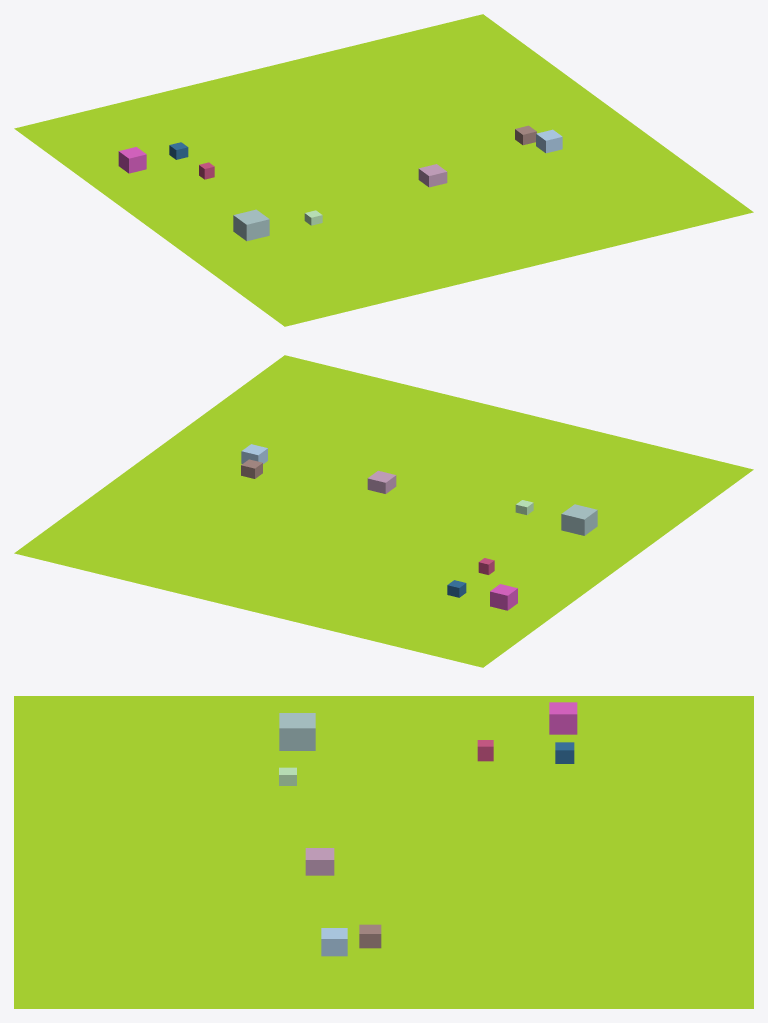
3 views of the same model, one above another, from view 1: azimuth 30°, elevation 25°; view 2: azimuth 150°, elevation 25°; view 3: azimuth 270°, elevation 25° (orthographic). The views are drawn at different scales.
Parts seen in each view (by area): view 1: Chunk_2_1; view 2: Chunk_2_1; view 3: Chunk_2_1.
Boxes of the visible parts, x1=… form: Chunk_2_1: x1=14, y1=14, x2=753, y2=326; Chunk_2_1: x1=14, y1=355, x2=753, y2=667; Chunk_2_1: x1=14, y1=696, x2=753, y2=1008.
Size of the model in its own units: 1500 by 74.11 by 1500.
